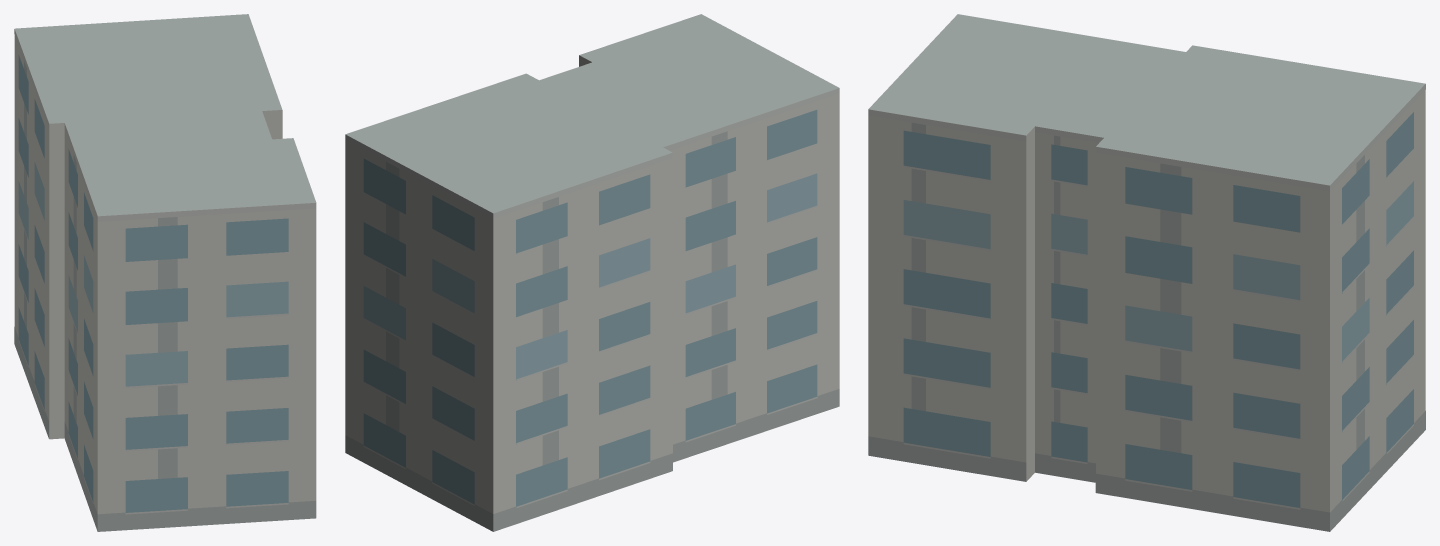
File: survey-upis-32809914.glb
3 views of the same model, side by side, from view 1: azimuth 30°, elevation 25°; view 2: azimuth 150°, elevation 25°; view 3: azimuth 270°, elevation 25° (orthographic). The views are drawn at different scales.
Parts seen in each view (by area): view 1: survey-upis-32809914.tmp; view 2: survey-upis-32809914.tmp; view 3: survey-upis-32809914.tmp.
Part boxes in pixels (x1,y1,x2,y2): survey-upis-32809914.tmp: (14,14,316,531); survey-upis-32809914.tmp: (345,14,839,531); survey-upis-32809914.tmp: (868,14,1425,531).
Bounding box in the file's own units: 14.78 × 13.9 × 20.29.
